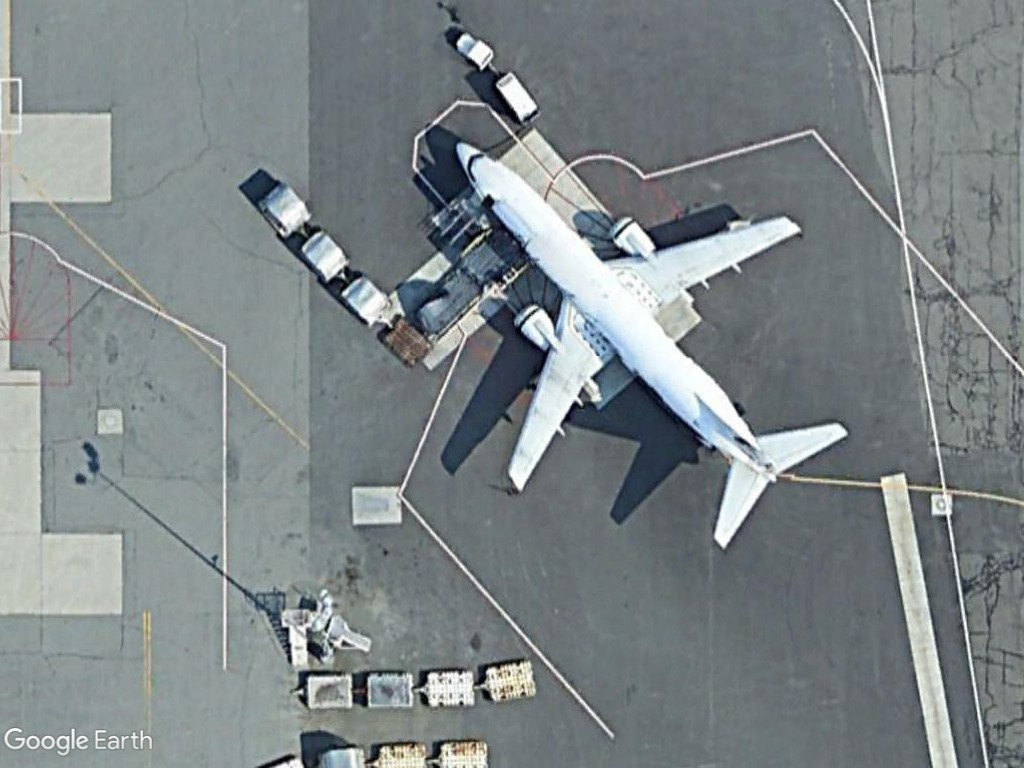airliner: (443, 134, 855, 555)
